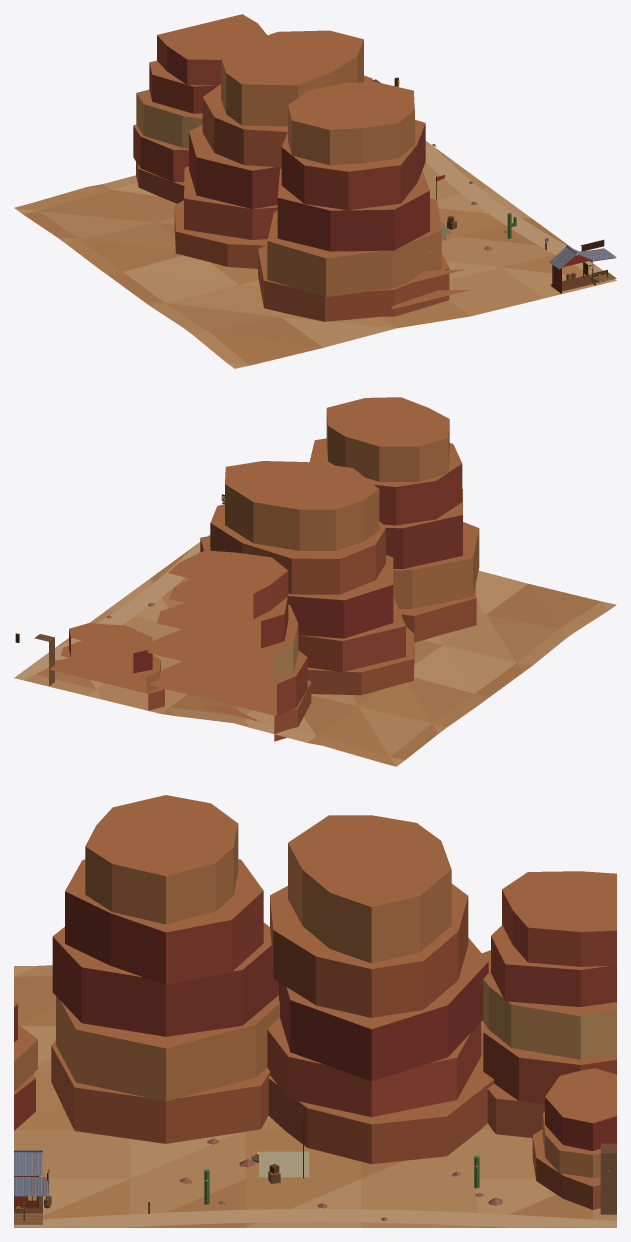
3 renders of one model, top to bottom at view 1: azimuth 30°, elevation 25°; view 2: azimuth 150°, elevation 25°; view 3: azimuth 270°, elevation 25°, orthographic. The views are drawn at different scales.
Parts seen in each view (by area): view 1: baked; view 2: baked; view 3: baked.
Part boxes in pixels (x1=…): baked: x1=14, y1=14, x2=616, y2=368; baked: x1=14, y1=397, x2=616, y2=766; baked: x1=14, y1=795, x2=616, y2=1227.
Bounding box in the file's own units: 62.5 × 28.97 × 62.5.
